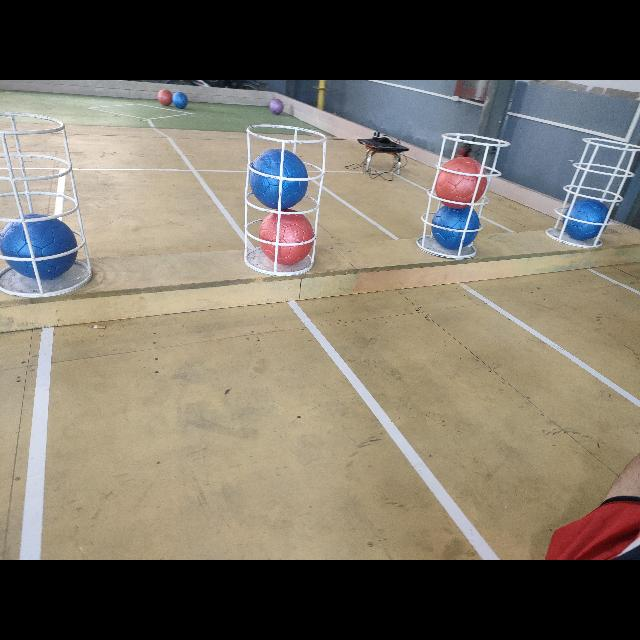B: (0, 212, 78, 280), (250, 148, 308, 210), (431, 203, 479, 249), (564, 198, 610, 240), (174, 92, 188, 108)
R: (258, 212, 316, 264), (434, 157, 488, 209), (158, 89, 172, 105)
